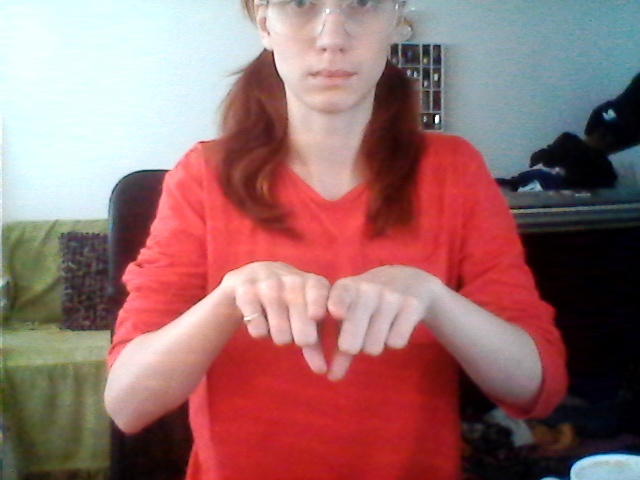sestra: (214, 238, 432, 384)
